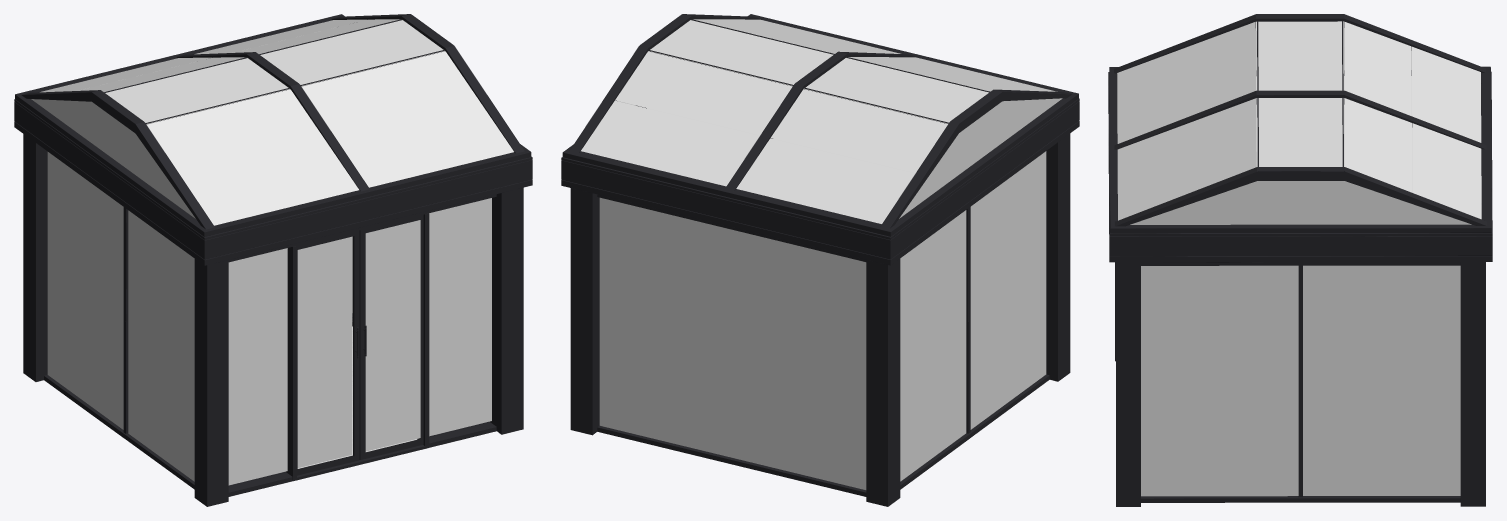
Rendered from veranda.glb.
The picture shows the model from 3 angles, left to right: view 1: azimuth 30°, elevation 25°; view 2: azimuth 150°, elevation 25°; view 3: azimuth 270°, elevation 25°; orthographic projection.
Visible parts, largest first — view 1: triangleroof, leftsideglass.001, planefixedglassfront, pillar, holdroof, leftdoorglass, rightdoorglass, topjoint, bottomjoint, right, left; view 2: triangleroof, backglass, leftsideglass.001, pillar, holdroof, bottomjoint, topjoint; view 3: triangleroof, rightsideglass, pillar, holdroof, bottomjoint, topjoint.
Part boxes in pixels (x1,y1,x2,y2): triangleroof: (15, 14, 531, 236); leftsideglass.001: (47, 152, 194, 481); planefixedglassfront: (228, 198, 491, 485); pillar: (23, 134, 523, 506); holdroof: (14, 99, 532, 265); leftdoorglass: (297, 236, 352, 467); rightdoorglass: (365, 220, 420, 451); topjoint: (228, 194, 496, 481); bottomjoint: (44, 207, 496, 496); right: (359, 214, 423, 459); left: (297, 230, 359, 475); triangleroof: (562, 14, 1078, 236); backglass: (599, 197, 866, 489); leftsideglass.001: (900, 151, 1046, 481); pillar: (570, 133, 1070, 506); holdroof: (561, 98, 1079, 265); bottomjoint: (597, 207, 1049, 496); topjoint: (597, 194, 866, 261); triangleroof: (1109, 14, 1491, 233); rightsideglass: (1141, 265, 1460, 496); pillar: (1115, 262, 1485, 506); holdroof: (1108, 71, 1492, 262); bottomjoint: (1141, 265, 1460, 502); topjoint: (1141, 262, 1460, 265).
Bounding box in the file's own units: 3.29 × 3.17 × 3.29.
4 materials, 1 textured.
